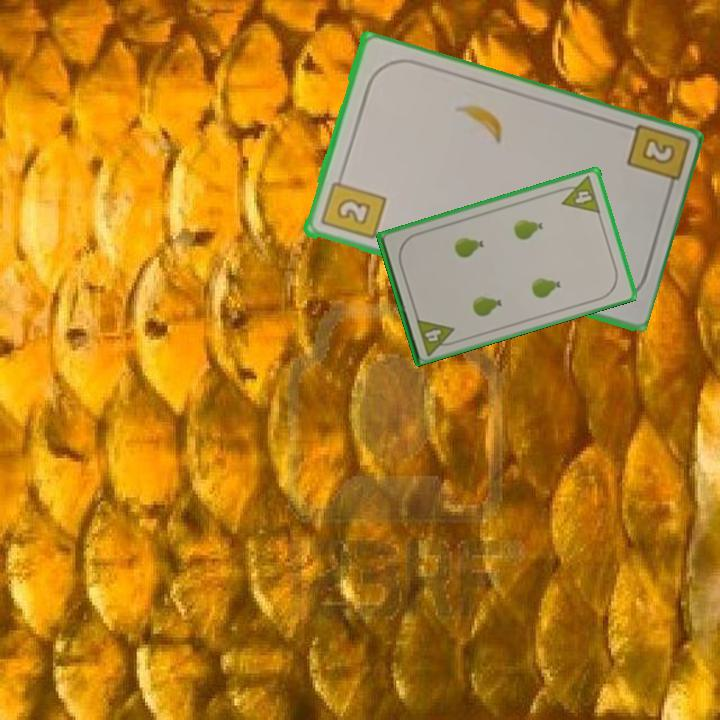2b: (316, 170, 388, 243), (622, 121, 689, 199)
4p: (413, 314, 460, 358), (555, 173, 603, 216)
